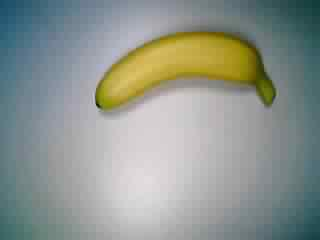banana: (92, 26, 280, 116)
